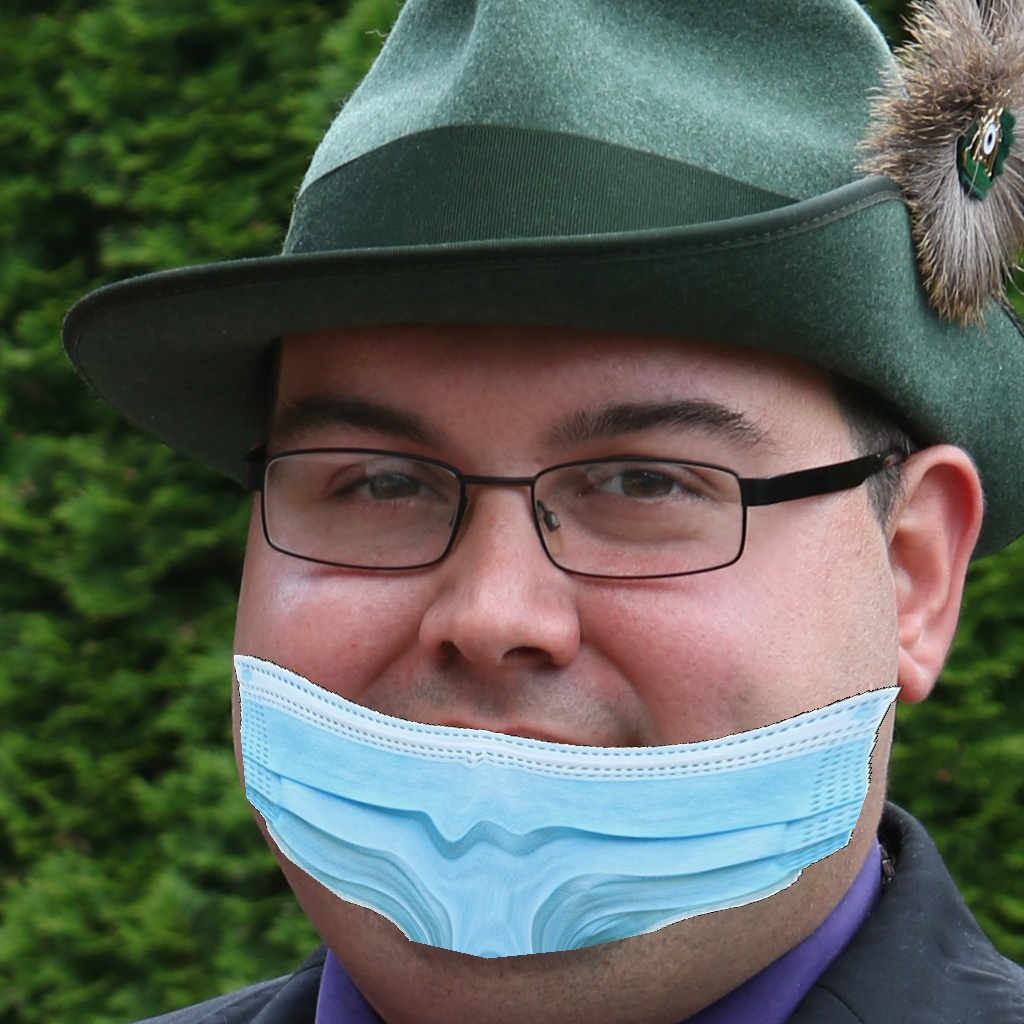mascarilla_mal_puesta: (262, 418, 837, 955)
